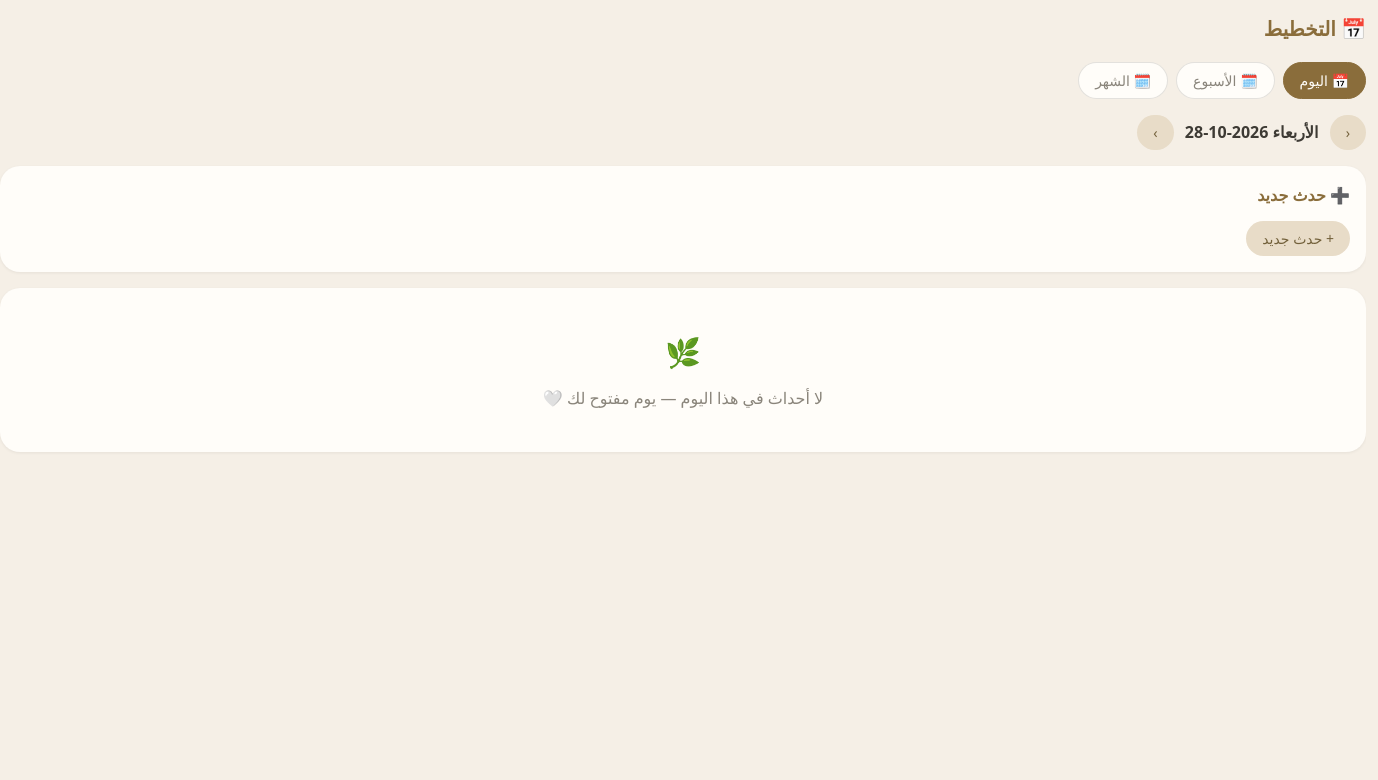
it: Planning Calendar UI › إضافة حدث من تبويب اليوم ثم ظهوره في القائمة
The width and height of the screenshot is (1378, 780).
نفتح تبويب اليوم
Click the tab "📅 اليوم": (1324, 80) x1=1283 y1=62 x2=1366 y2=99
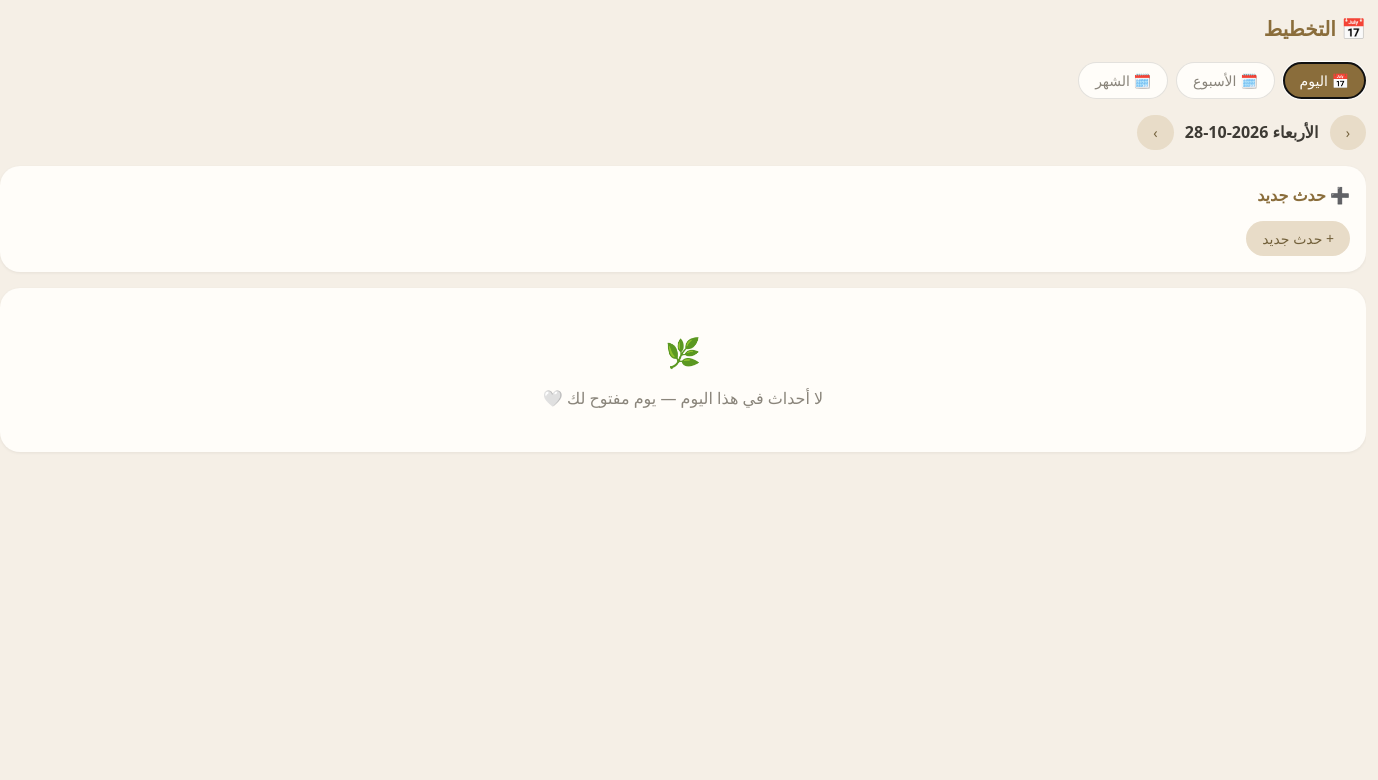
نكشف النموذج ونملأه
Click the button "+ حدث جديد": (1298, 239) x1=1246 y1=221 x2=1350 y2=256
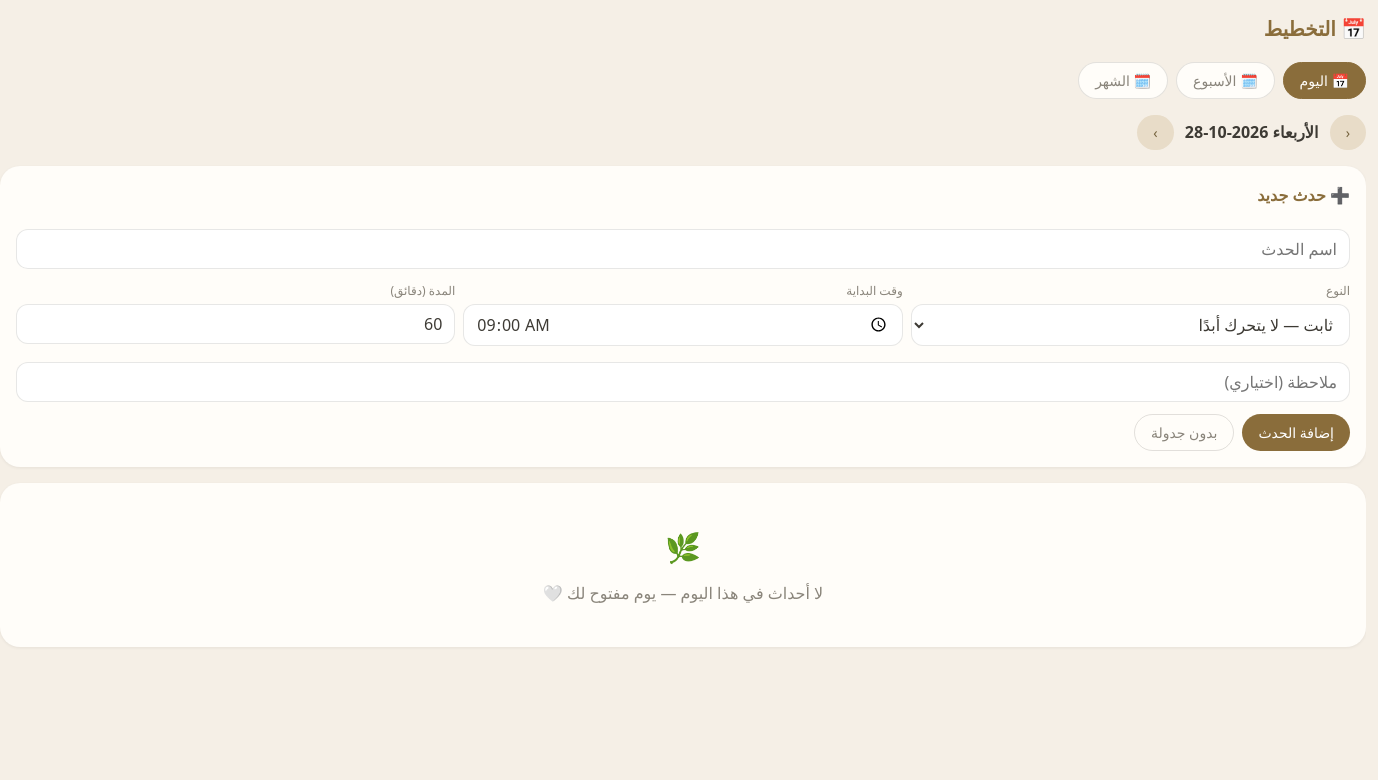
In the field with placeholder "اسم الحدث": (683, 249) x1=16 y1=229 x2=1350 y2=269, type "محاضرة التفسير"
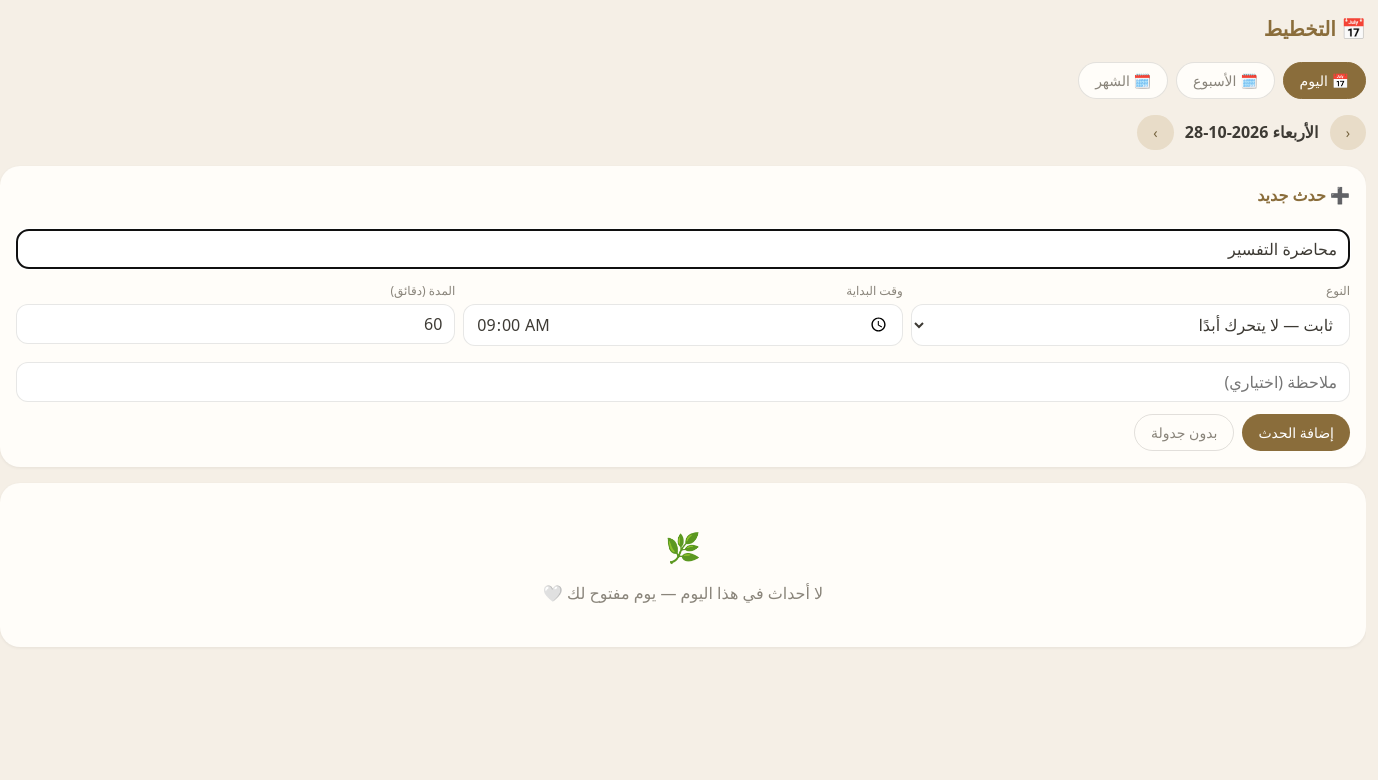
Click the button "إضافة الحدث": (1296, 432) x1=1242 y1=414 x2=1350 y2=451
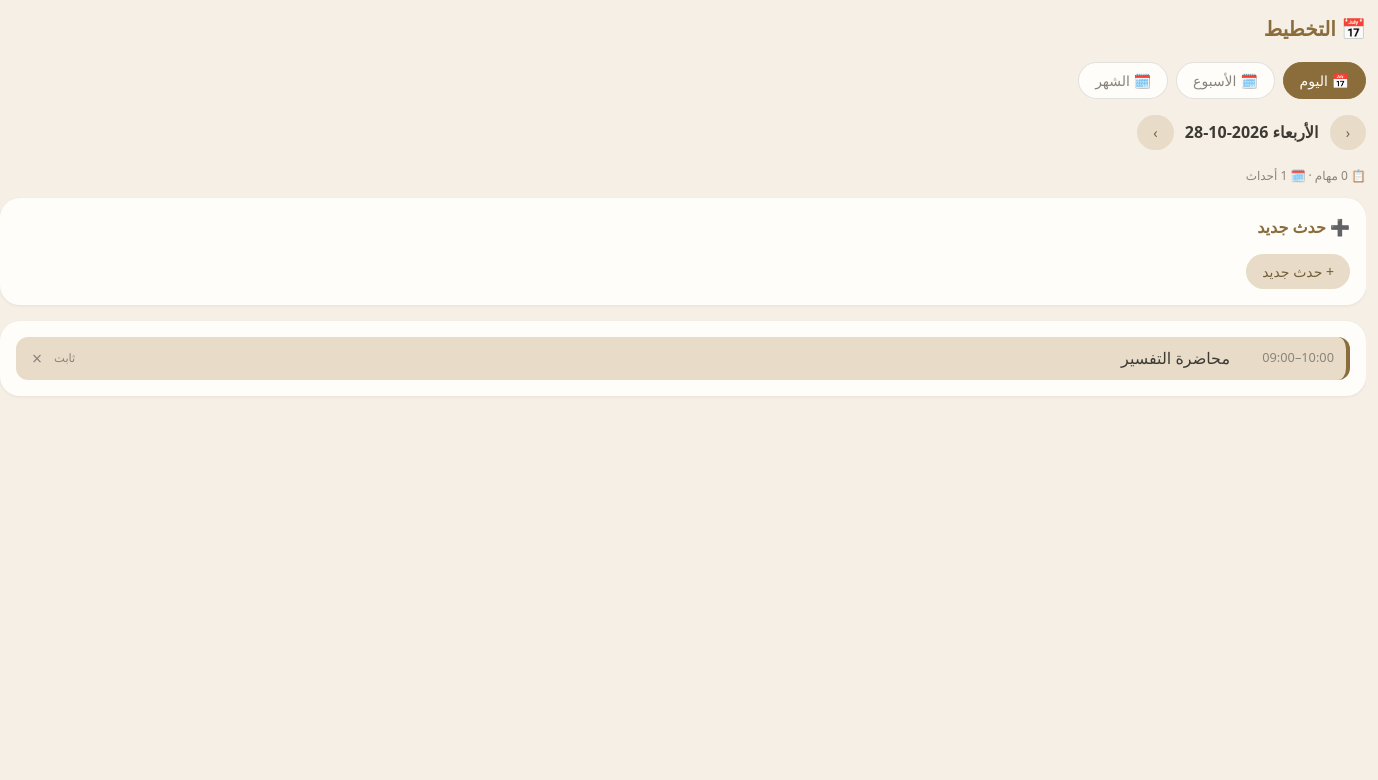
Check: the text "ثابت" is shown, box x1=54 y1=348 x2=75 y2=368
